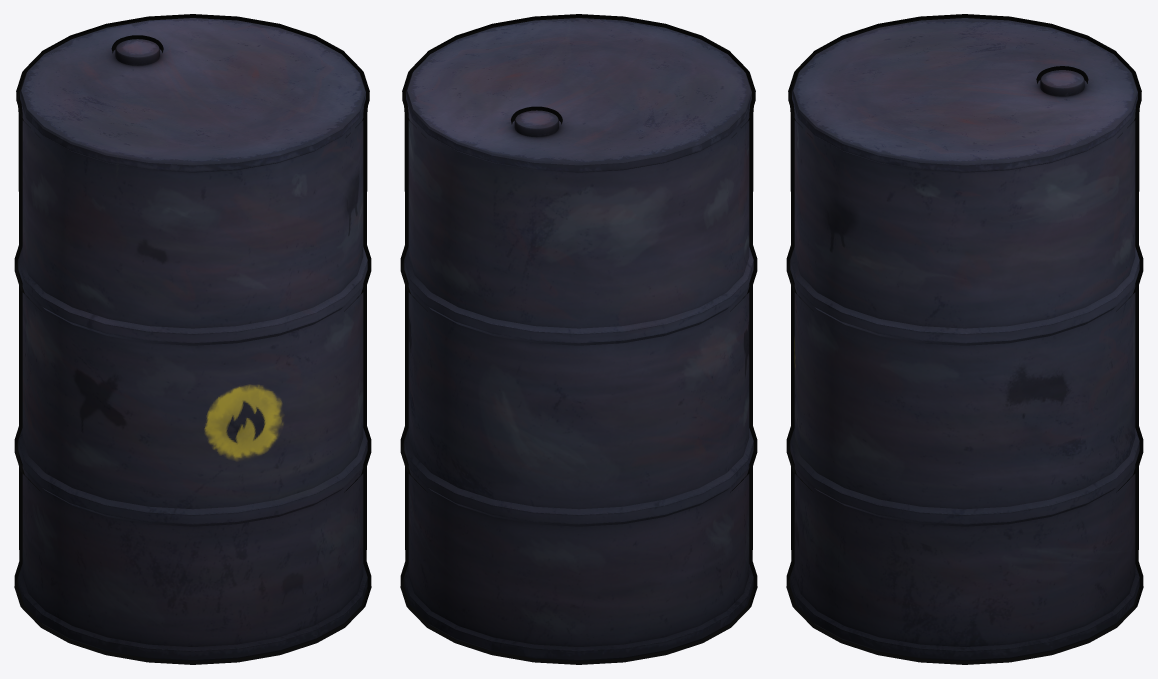
The model's file is bidon_highpoly.fbx.
3 renders of one model, left to right at view 1: azimuth 30°, elevation 25°; view 2: azimuth 150°, elevation 25°; view 3: azimuth 270°, elevation 25°, orthographic.
Parts seen in each view (by area): view 1: bidon_high, bidon_OUTLINE; view 2: bidon_high, bidon_OUTLINE; view 3: bidon_high, bidon_OUTLINE.
Part boxes in pixels (x1=…): bidon_high: x1=18, y1=18, x2=367, y2=660; bidon_OUTLINE: x1=14, y1=14, x2=371, y2=664; bidon_high: x1=404, y1=18, x2=753, y2=660; bidon_OUTLINE: x1=400, y1=14, x2=757, y2=664; bidon_high: x1=790, y1=18, x2=1139, y2=660; bidon_OUTLINE: x1=786, y1=14, x2=1143, y2=664.
Size of the model in its own units: 26.84 by 42.57 by 26.84.
